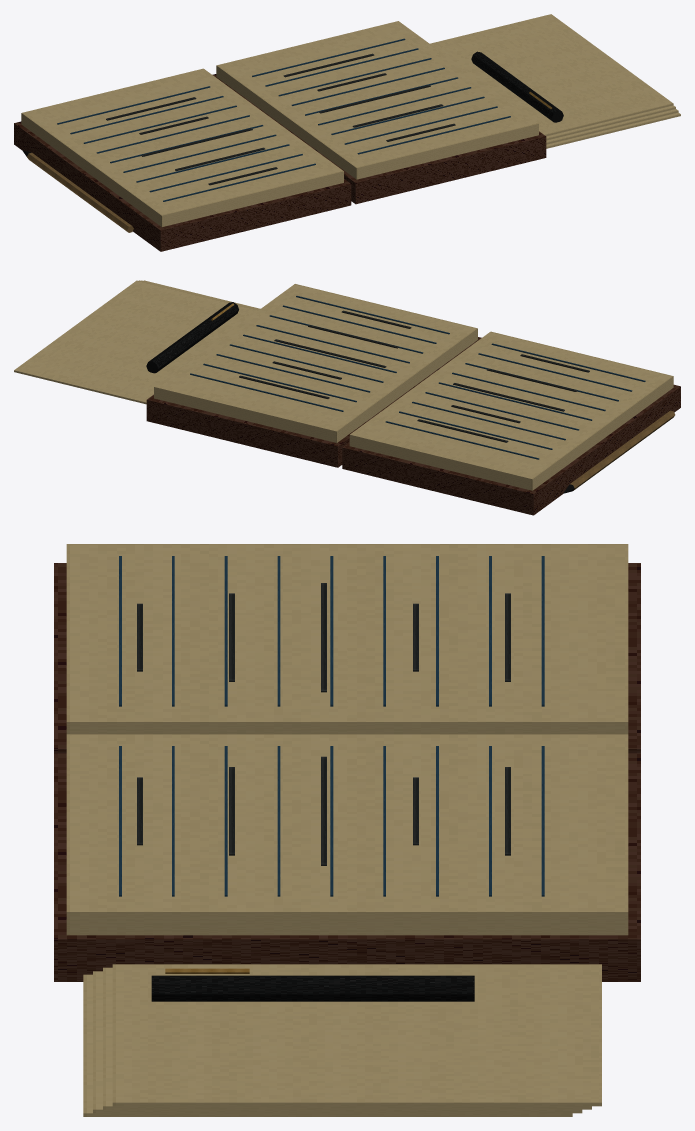
Rendered from level_trace_records.glb.
The picture shows the model from 3 angles, top to bottom: view 1: azimuth 30°, elevation 25°; view 2: azimuth 150°, elevation 25°; view 3: azimuth 270°, elevation 25°; orthographic projection. The views are drawn at different scales.
Visible parts, largest first — view 1: level_trace_records; view 2: level_trace_records; view 3: level_trace_records.
Boxes of the visible parts, left/top/right/bottom form: level_trace_records: left=14, top=14, right=680, bottom=251; level_trace_records: left=14, top=280, right=680, bottom=515; level_trace_records: left=54, top=544, right=640, bottom=1116.
Size of the model in its own units: 0.639 by 0.0395 by 0.3.
Materials: 7 (7 with a texture image).
